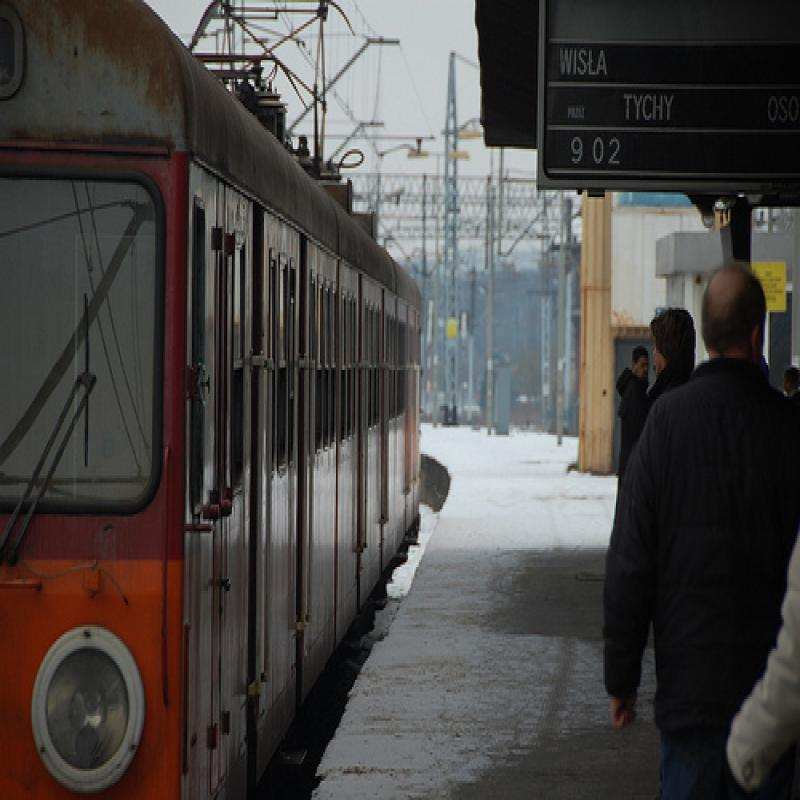train: (3, 3, 428, 800)
